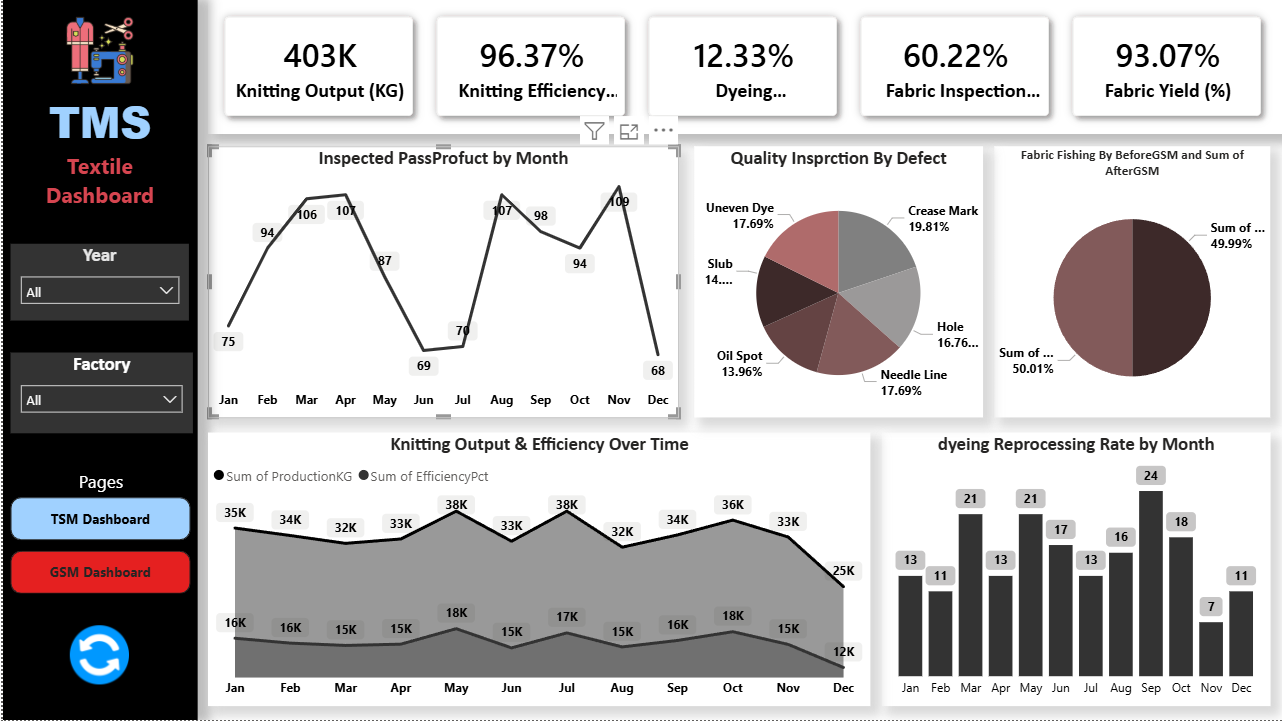

What the dashboard file says about the page in this screenshot:
{"tool":"powerbi","page":{"name":"TSM Dashboard","canvas":[1280,720],"ordinal":0},"visuals":[{"type":"cardVisual","fields":{"Data":["@measure.Knitting Output (KG)","@measure.Knitting Efficiency (%)","@measure.Dyeing Reprocessing Rate (%)","@measure.Fabric Inspection Pass Rate (%)","@measure.Fabric Yield (%)"]},"box":[205.4,0,1074.9,133.3],"z":0},{"type":"lineChart","title":"Inspected PassProfuct by Month","fields":{"Y":["Sum(fact_fabric_inspection.PassProfuct)"],"Category":["dim_date.MonthName"]},"box":[205.4,146.7,470.8,271.5],"z":1000},{"type":"pieChart","title":"Fabric Fishing By BeforeGSM and Sum of AfterGSM","fields":{"Y":["Sum(fact_fabric_finishing.BeforeGSM)","Sum(fact_fabric_finishing.AfterGSM)"]},"box":[991.7,146.7,276.4,271.5],"z":2000},{"type":"columnChart","title":"dyeing Reprocessing Rate by Month","fields":{"Category":["dim_date.MonthName"],"Y":["select","Sum(fact_dyeing.ReprocessFlag)"]},"box":[879.2,432.9,388.9,273.9],"z":3000},{"type":"textbox","box":[0,0,194.4,720.2],"z":4000},{"type":"areaChart","title":"Knitting Output & Efficiency Over Time","fields":{"Category":["dim_date.MonthName"],"Y":["Sum(fact_knitting.ProductionKG)","Sum(fact_knitting.EfficiencyPct)"]},"box":[205.4,432.9,662.8,273.9],"z":5000},{"type":"pieChart","title":"Quality Insprction By Defect","fields":{"Y":["select","CountNonNull(fact_fabric_inspection.MajorDefect)"],"Category":["fact_fabric_inspection.MajorDefect"]},"box":[690.9,146.7,288.6,271.5],"z":6000},{"type":"slicer","title":"Year","fields":{"Values":["dim_date.Year"]},"box":[7.3,243.3,178.5,77],"z":7000},{"type":"image","box":[41.6,20.8,108.8,68.5],"z":8000},{"type":"pageNavigator","title":"Pages","box":[7.3,469.6,181,123.5],"z":9000},{"type":"actionButton","box":[50.1,621.2,92.9,67.3],"z":10000},{"type":"slicer","title":"Factory ","fields":{"Values":["dim_factory.FactoryName"]},"box":[7.3,352.2,182.2,80.7],"z":10001},{"type":"image","box":[52.6,12.2,89.3,75.8],"z":10002}]}

Visuals, with their boxes in screenshot pixels (x1, y1, x2, y2), scaled from the page's 1280x720 canvas onto the 1282x721 screenshot:
cardVisual - @measure.Knitting Output (KG) x @measure.Knitting Efficiency (%): pyautogui.locateOnScreen(206, 0, 1281, 133)
"Inspected PassProfuct by Month" lineChart: pyautogui.locateOnScreen(206, 147, 677, 419)
"Fabric Fishing By BeforeGSM and Sum of AfterGSM" pieChart: pyautogui.locateOnScreen(993, 147, 1270, 419)
"dyeing Reprocessing Rate by Month" columnChart: pyautogui.locateOnScreen(881, 434, 1270, 708)
textbox: pyautogui.locateOnScreen(0, 0, 195, 720)
"Knitting Output & Efficiency Over Time" areaChart: pyautogui.locateOnScreen(206, 434, 870, 708)
"Quality Insprction By Defect" pieChart: pyautogui.locateOnScreen(692, 147, 981, 419)
"Year" slicer: pyautogui.locateOnScreen(7, 244, 186, 321)
image: pyautogui.locateOnScreen(42, 21, 151, 89)
"Pages" pageNavigator: pyautogui.locateOnScreen(7, 470, 189, 594)
actionButton: pyautogui.locateOnScreen(50, 622, 143, 689)
"Factory " slicer: pyautogui.locateOnScreen(7, 353, 190, 434)
image: pyautogui.locateOnScreen(53, 12, 142, 88)
